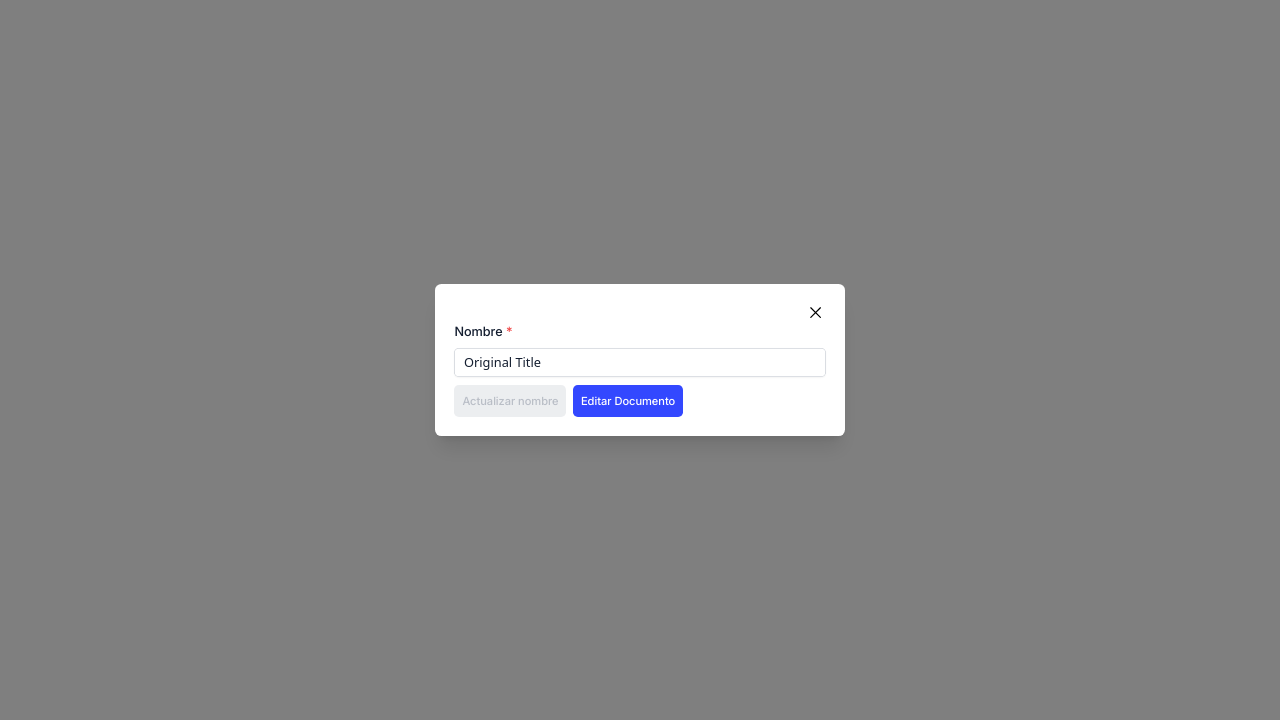
Scenario: EditDocumentModal.vue › continue button is disabled when title is empty
This screenshot has width=1280, height=720.
Clear the field with id "document-name" at (640, 362), box x1=454 y1=348 x2=826 y2=377
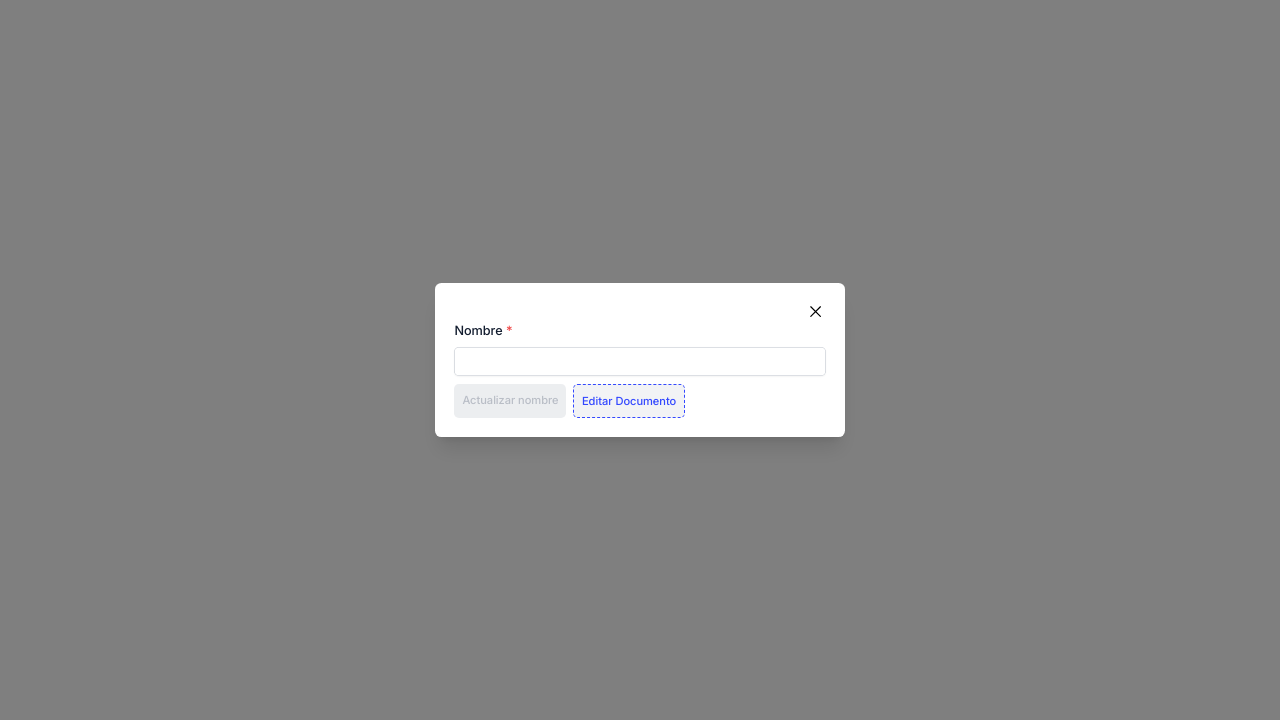
Expected: the submit button is disabled, x1=573 y1=384 x2=685 y2=418
